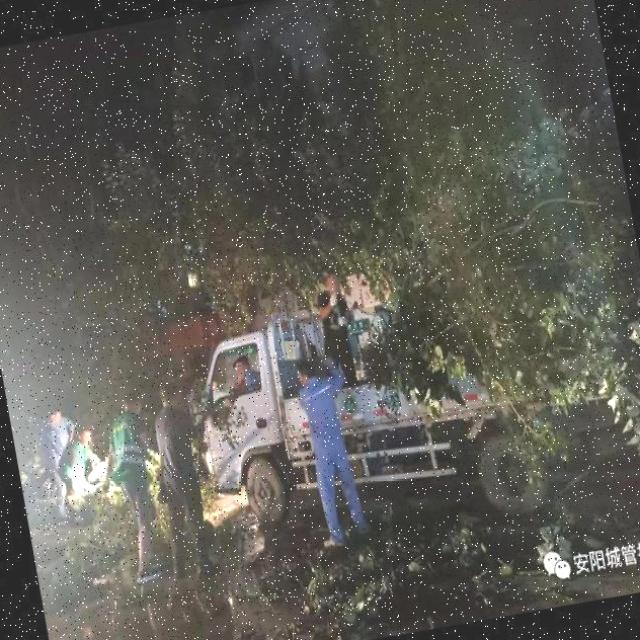fallen_object: (372, 189, 602, 309)
